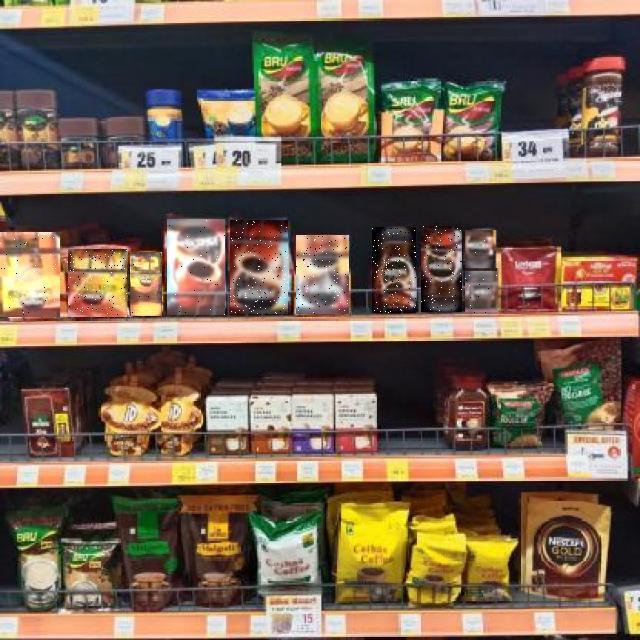Coffee: (167, 219, 225, 315), (230, 220, 288, 314), (0, 232, 60, 317), (296, 235, 349, 314), (68, 249, 127, 317), (372, 227, 416, 313), (421, 226, 462, 312), (130, 253, 162, 317), (465, 272, 498, 314), (466, 230, 500, 268)
